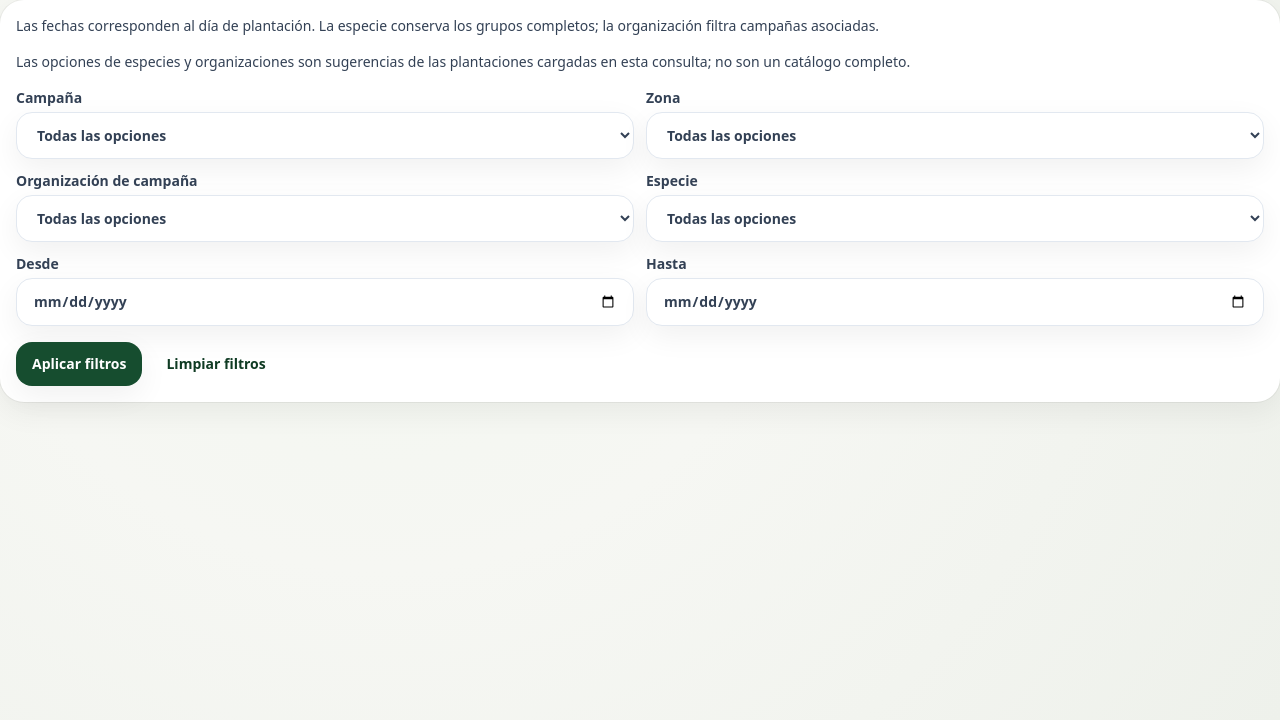
it: filtros públicos por nombre › no trata una fecha que el navegador informa como incompleta como si fuera un filtro vacío
Click the button "Aplicar filtros". click: [79, 364]
box: top-left (16, 342), bottom-right (142, 386)
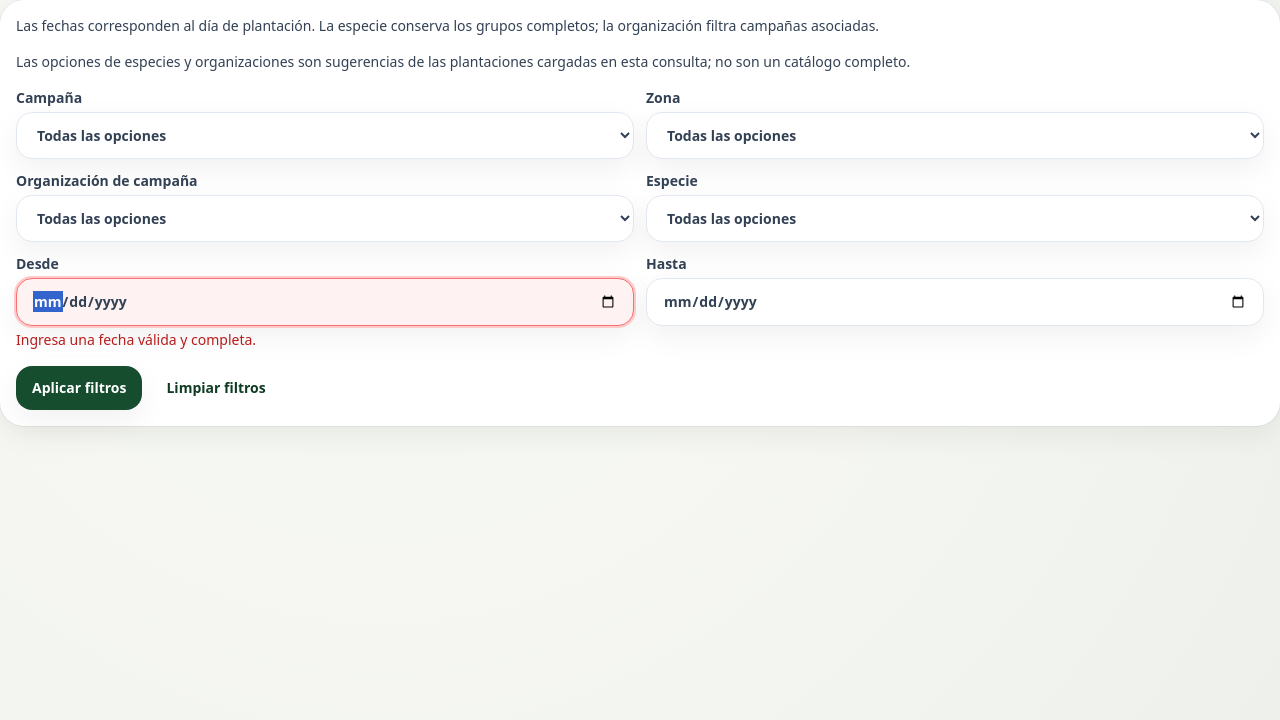
expect the message reads "Ingresa una fecha válida y completa.": met, box top-left (16, 330), bottom-right (256, 349)
